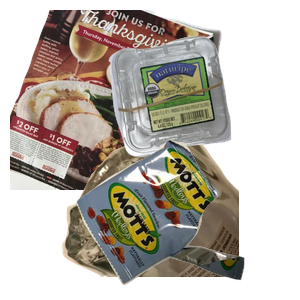glass: (60, 120, 300, 300)
paper: (10, 10, 224, 190)
plastic: (106, 34, 300, 183)
trash: (74, 137, 300, 300)
